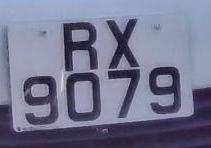0: (60, 68, 108, 127)
7: (106, 64, 147, 125)
9: (142, 59, 188, 121), (18, 67, 57, 131)
R: (53, 15, 106, 75)
X: (102, 14, 145, 72)
